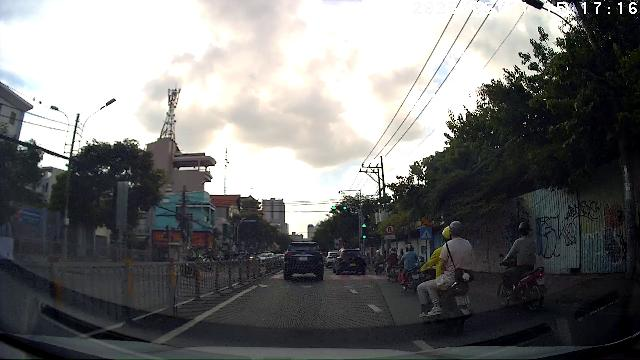124b-cam-oto-quay-dau-xe: (385, 224, 395, 234)
423a-duong-nguoi-di-bo-sang-ngang-1: (420, 227, 432, 239)
